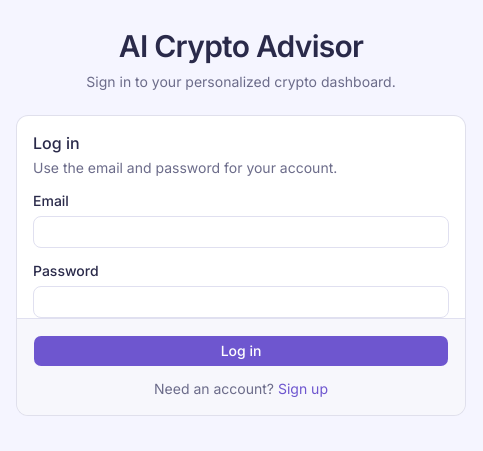
Test: LoginPage › shows server error on failed login
Type "a@b.com" into the field labelled "Email". click: (241, 232)
box: [33,216,449,248]
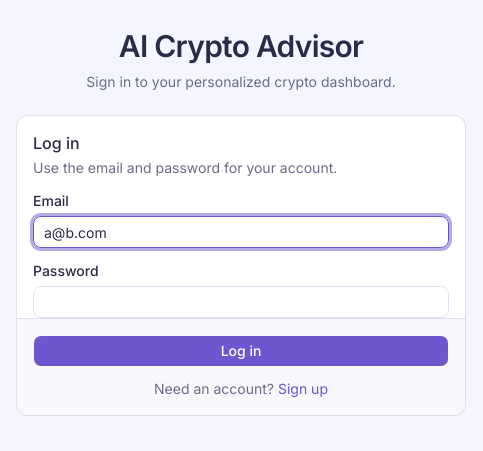
Type "secret123" into the password field labelled "Password". click: (241, 302)
box: [33,286,449,318]
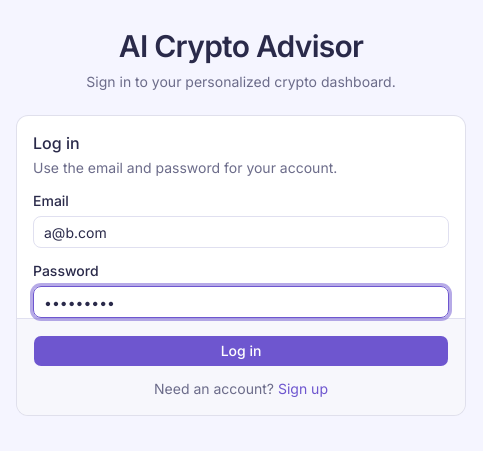
Click the button "Log in". click: (241, 351)
box: [33,335,449,367]
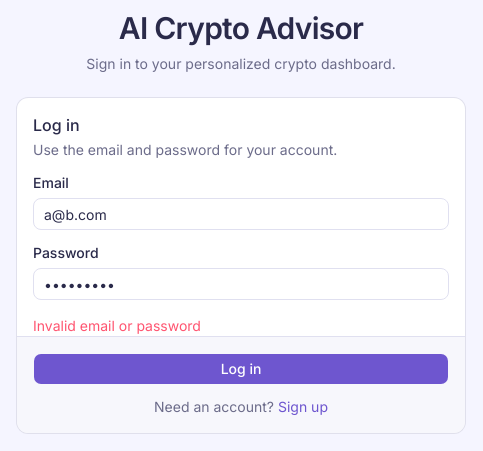
Result: the message reads "Invalid email or password" at [33,317,201,334]
